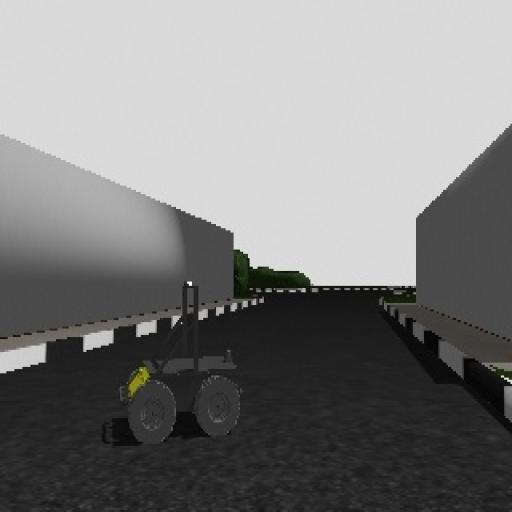huskya200: (110, 276, 252, 452)
